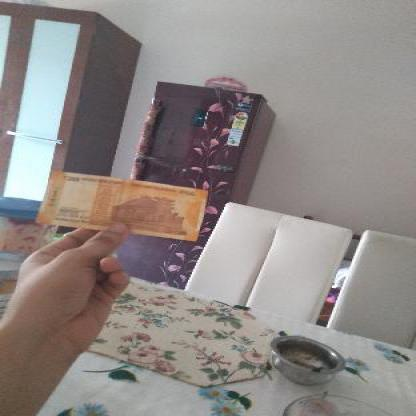New200Back: (42, 172, 218, 236)
